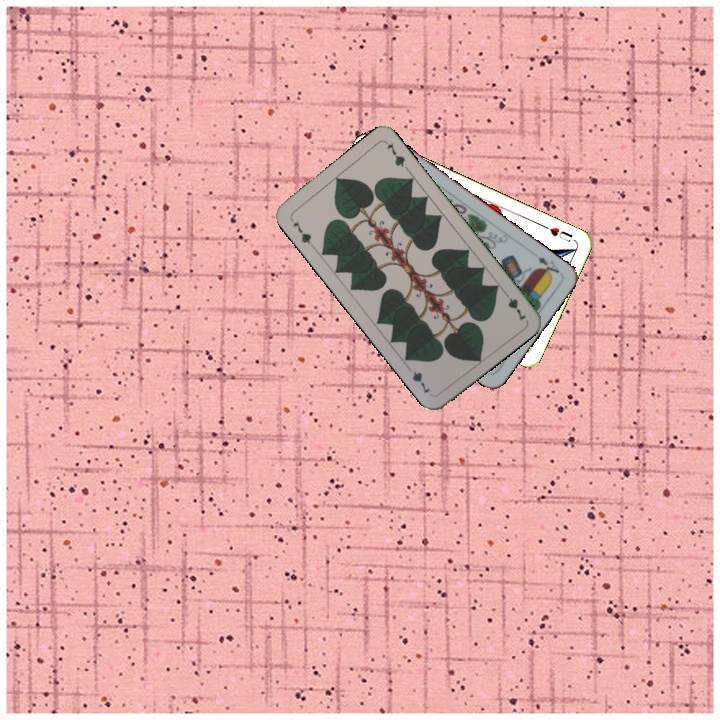EA: (533, 252, 562, 280)
G7: (499, 287, 529, 324), (287, 214, 315, 249)
HU: (539, 221, 575, 245)
